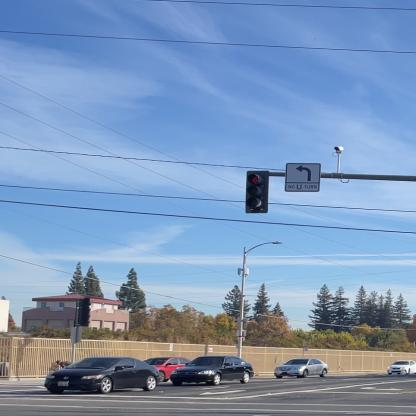left-red: (244, 168, 271, 214)
